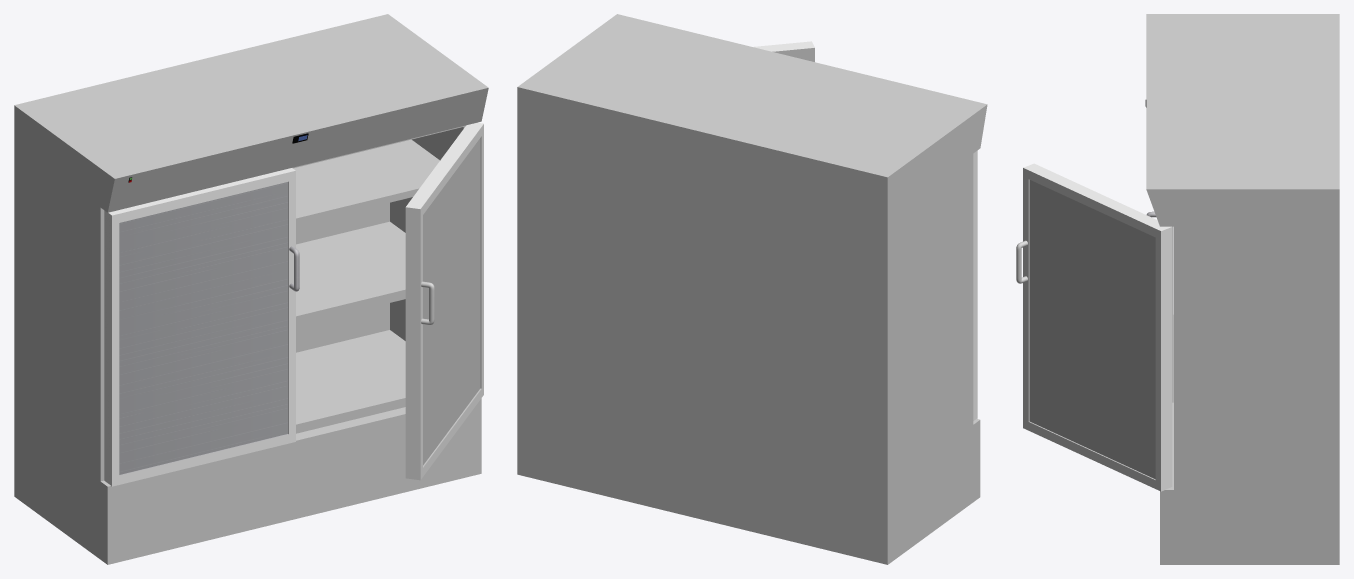
Rendered from refrigerador.fbx.
The picture shows the model from 3 angles, left to right: view 1: azimuth 30°, elevation 25°; view 2: azimuth 150°, elevation 25°; view 3: azimuth 270°, elevation 25°; orthographic projection. The views are drawn at different scales.
Visible parts, largest first — view 1: Cubo, puerta_izquierda, Cubo.001, puerta_derecha, Cubo.003; view 2: Cubo, Cubo.003, puerta_izquierda, puerta_derecha, Cubo.001; view 3: Cubo, puerta_derecha, Cubo.003, Cubo.001.
Boxes of the visible parts, bbox=[...] form: Cubo: bbox=[14, 14, 473, 559]; puerta_izquierda: bbox=[104, 168, 299, 486]; Cubo.001: bbox=[100, 398, 481, 564]; puerta_derecha: bbox=[405, 122, 483, 480]; Cubo.003: bbox=[100, 77, 488, 212]; Cubo: bbox=[517, 24, 973, 564]; Cubo.003: bbox=[603, 14, 987, 153]; puerta_izquierda: bbox=[973, 150, 977, 420]; puerta_derecha: bbox=[753, 41, 814, 61]; Cubo.001: bbox=[973, 419, 980, 501]; Cubo: bbox=[1174, 14, 1339, 564]; puerta_derecha: bbox=[1016, 163, 1172, 491]; Cubo.003: bbox=[1146, 14, 1173, 226]; Cubo.001: bbox=[1160, 315, 1173, 564].
Bounding box in the file's own units: 151 × 150 × 117.
Materials: 8 (1 with a texture image).
